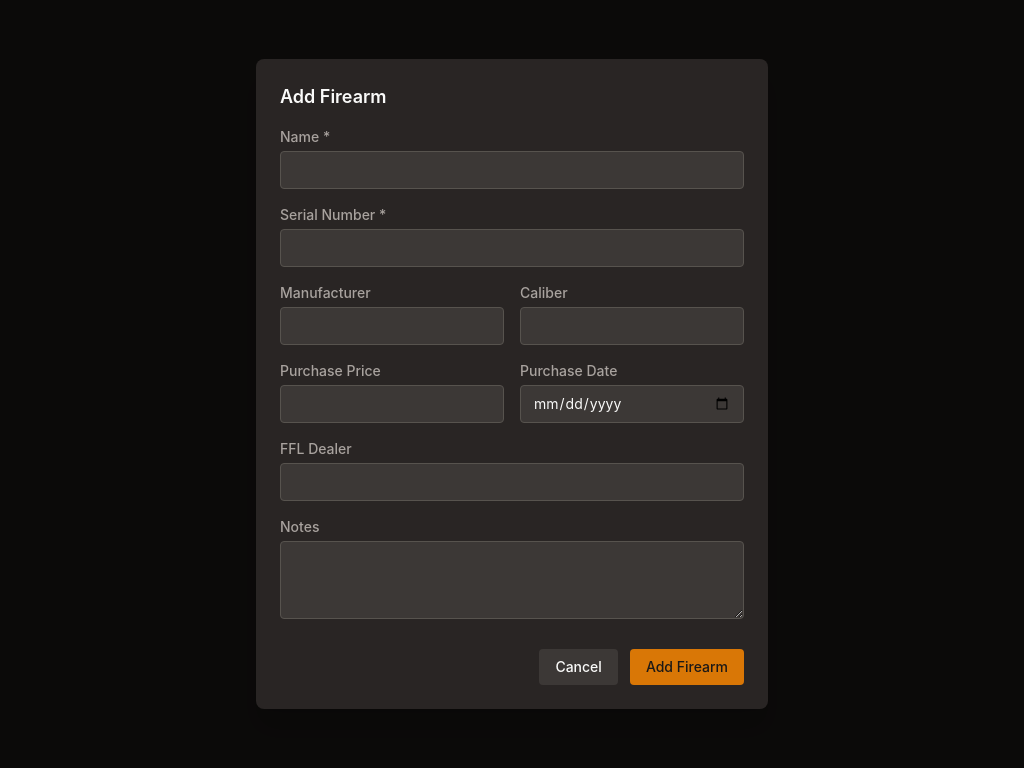
Test: FirearmForm › shows inline error on Serial when submitted empty
Step 1. Type "Test" into the field labelled "Name *" → x=512, y=170, box 280,151 -> 744,189
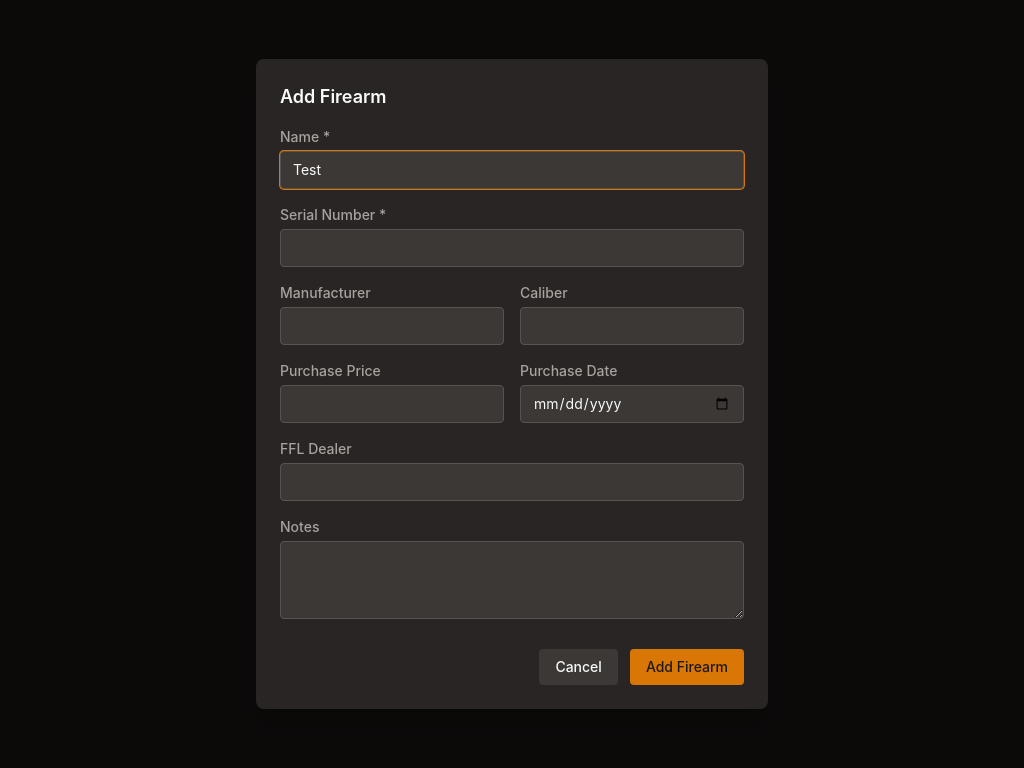
Step 2. Click the button "Add Firearm" → x=687, y=667, box 630,649 -> 744,685
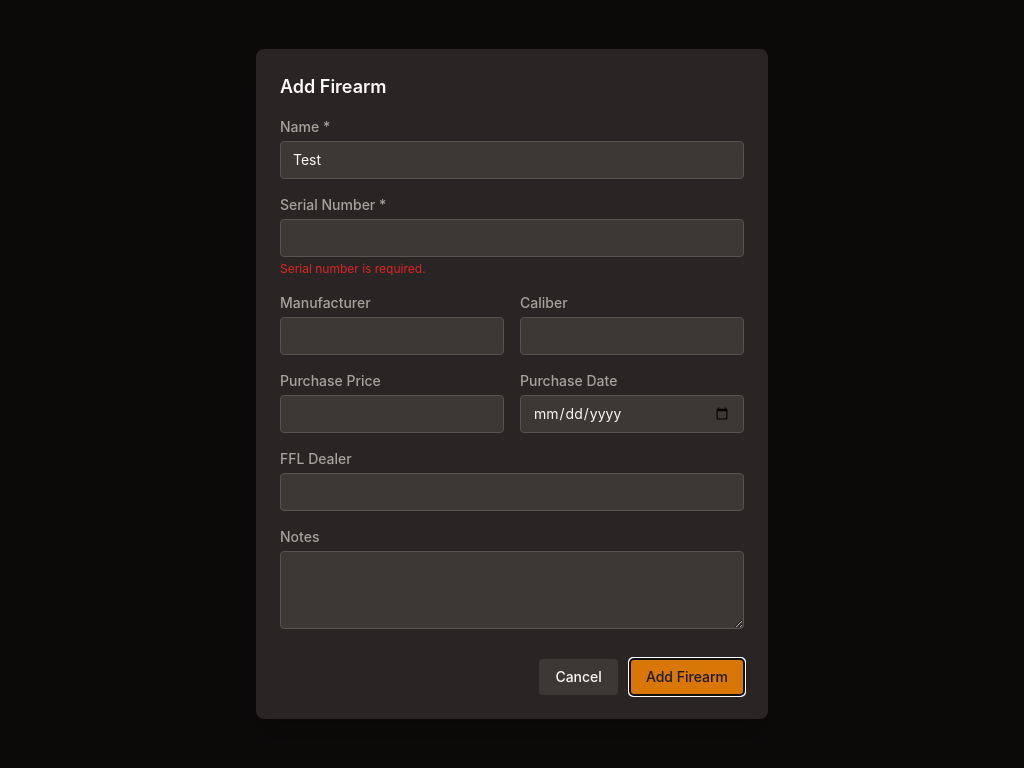
Check: the text "Serial number is required." is shown, box 280,261 -> 426,276
